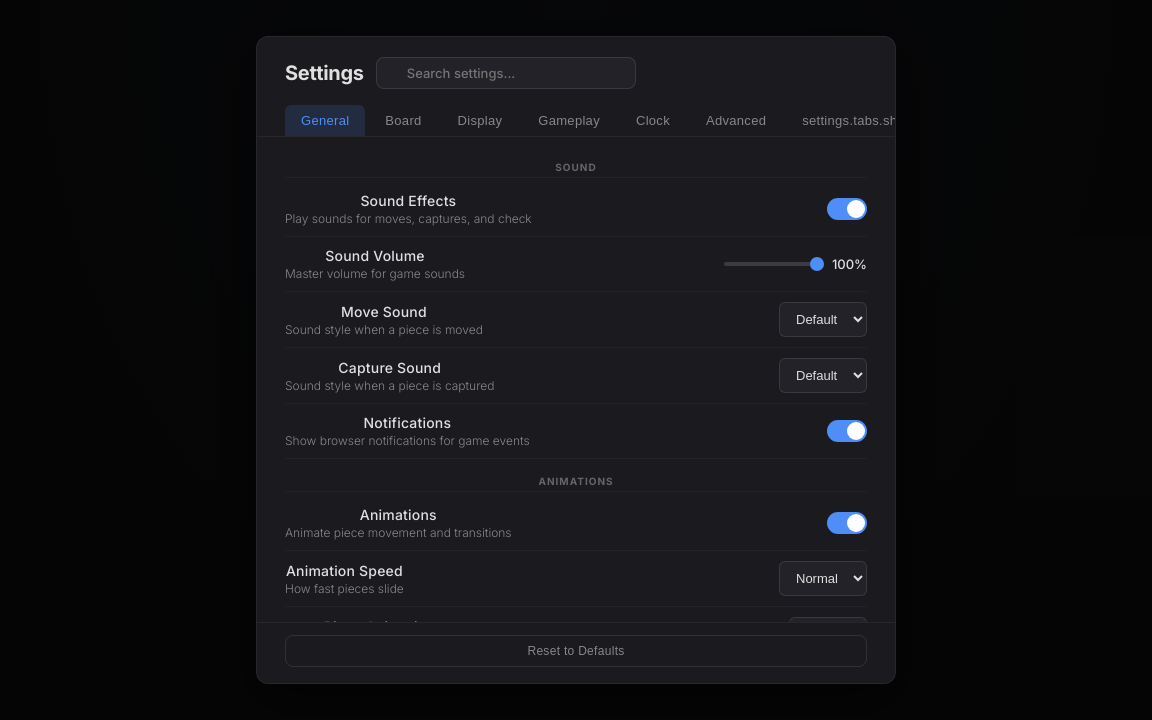
Test: SettingsDialog › switches to board tab on click
The image size is (1152, 720).
Step 1. Click the button "Board" → click(404, 120), box [369, 105, 438, 136]
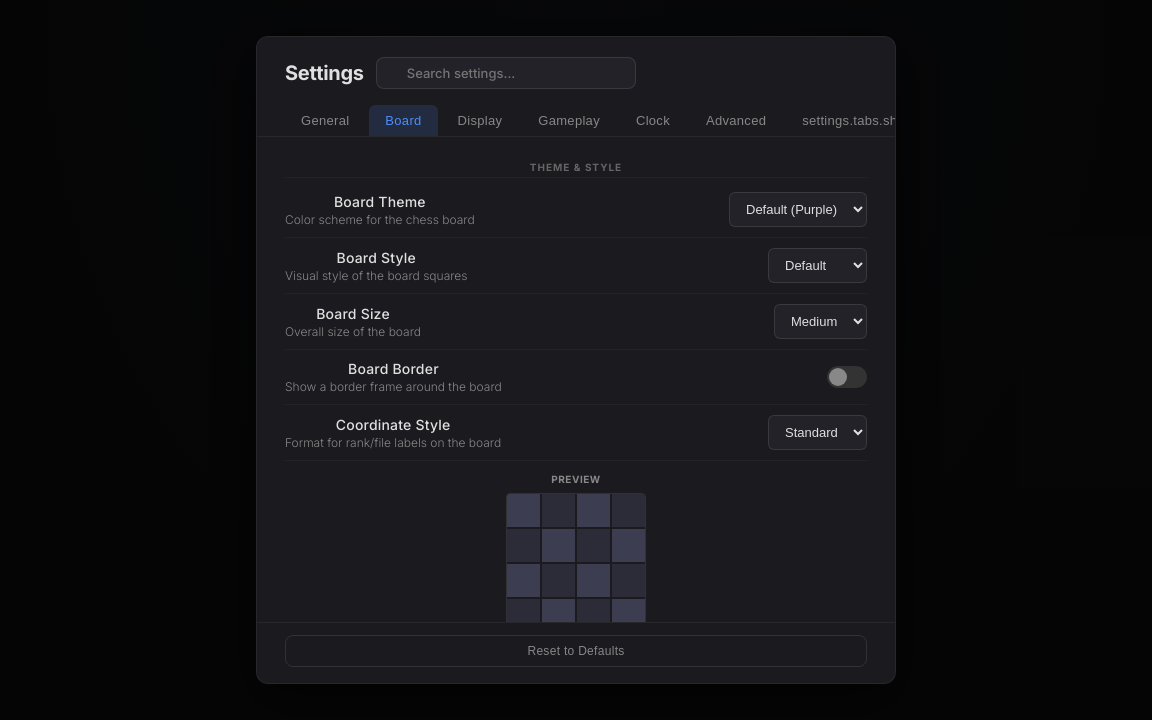
Check: the text "Board Theme" is shown, box [334, 192, 426, 210]
Check: the text "Board Style" is shown, box [336, 248, 416, 266]
Check: the text "Board Size" is shown, box [316, 304, 390, 322]
